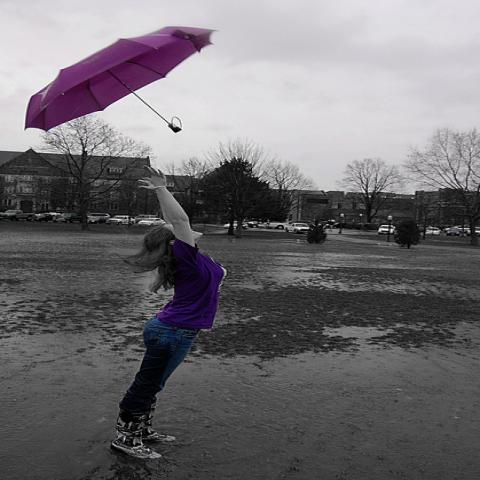car: (30, 210, 479, 236), (1, 210, 34, 222), (272, 220, 315, 229), (52, 212, 87, 223), (106, 215, 136, 225), (286, 222, 310, 234), (138, 217, 165, 227), (222, 220, 249, 230), (86, 213, 110, 224), (377, 224, 396, 235), (425, 227, 442, 235), (245, 221, 263, 228), (447, 228, 460, 236), (267, 222, 283, 228)
